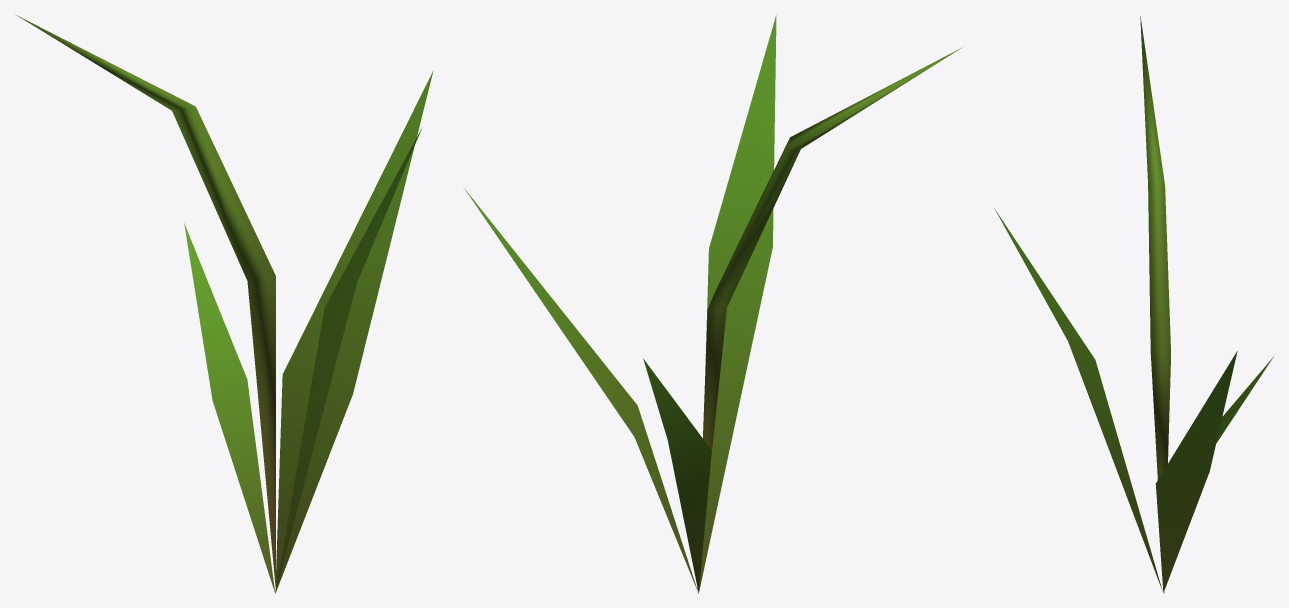
The model's file is SM_Rice_LowRes 1.fbx.
3 views of the same model, side by side, from view 1: azimuth 30°, elevation 25°; view 2: azimuth 150°, elevation 25°; view 3: azimuth 270°, elevation 25° (orthographic). The views are drawn at different scales.
Visible parts, largest first — view 1: SM_Rice_LowRes; view 2: SM_Rice_LowRes; view 3: SM_Rice_LowRes.
Part boxes in pixels (x1,y1,x2,y2): SM_Rice_LowRes: [15, 14, 433, 593]; SM_Rice_LowRes: [464, 15, 962, 593]; SM_Rice_LowRes: [995, 16, 1273, 593].
Size of the model in its own units: 2.5 by 3.24 by 1.72.
